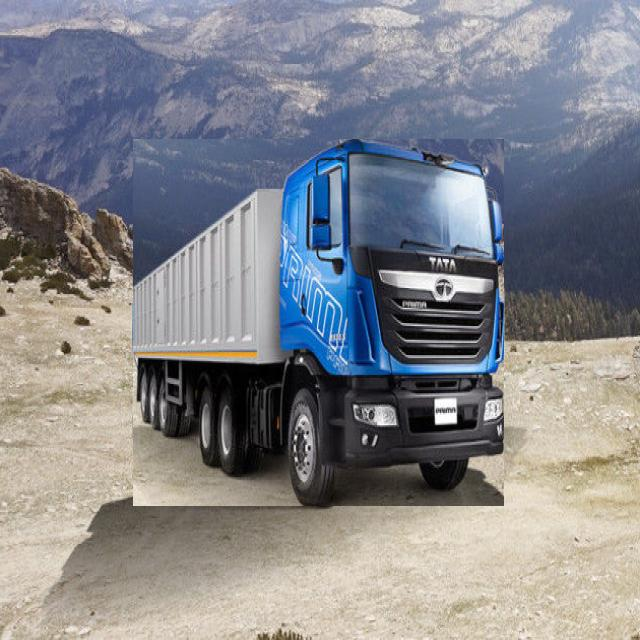truck: (133, 139, 504, 506)
